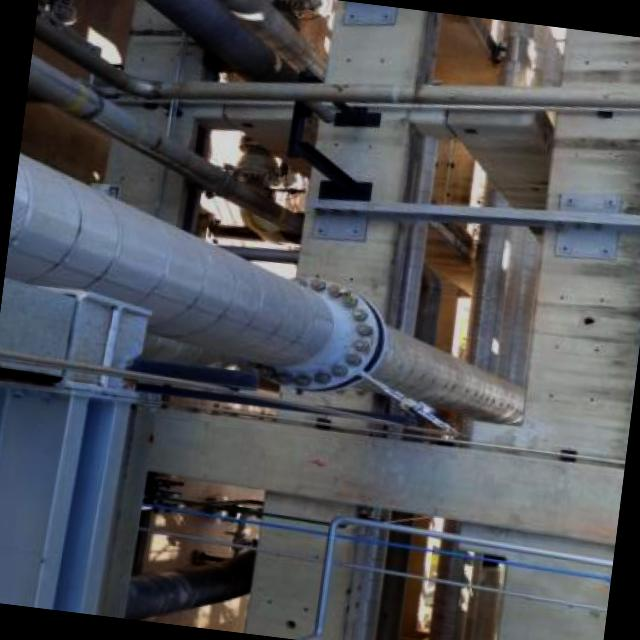gas: (3, 156, 526, 425), (33, 8, 640, 109), (26, 56, 298, 234), (145, 0, 299, 83), (219, 0, 324, 81), (125, 557, 246, 619)
